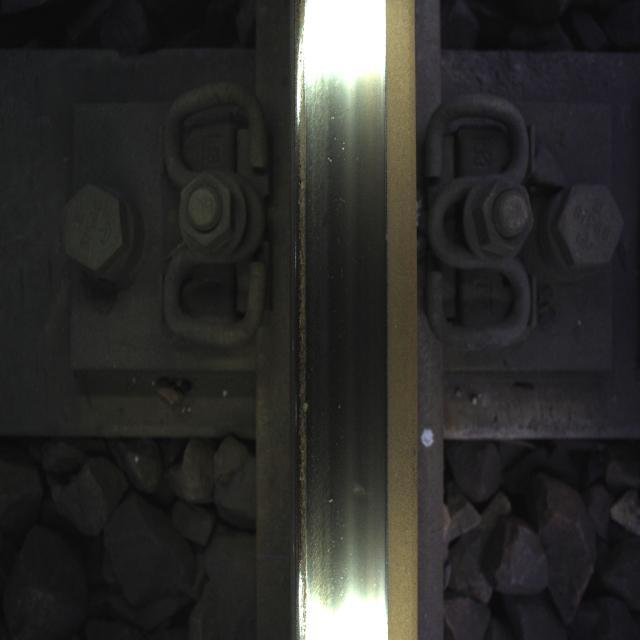break: (292, 42, 368, 622)
